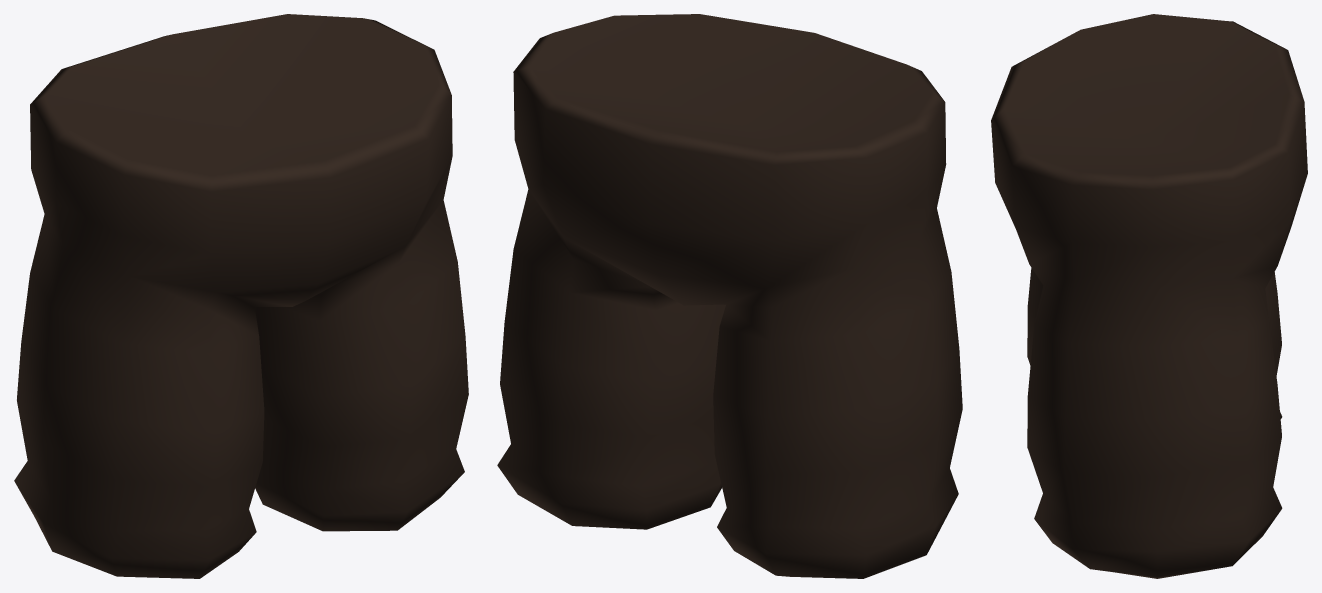
Rendered from Legs_3.fbx.
The picture shows the model from 3 angles, left to right: view 1: azimuth 30°, elevation 25°; view 2: azimuth 150°, elevation 25°; view 3: azimuth 270°, elevation 25°; orthographic projection. The views are drawn at different scales.
Visible parts, largest first — view 1: Legs_3; view 2: Legs_3; view 3: Legs_3.
Part boxes in pixels (x1=…): Legs_3: x1=14, y1=14, x2=468, y2=578; Legs_3: x1=497, y1=14, x2=962, y2=578; Legs_3: x1=991, y1=14, x2=1307, y2=578.
Bounding box in the file's own units: 40.89 × 42.48 × 29.68.
